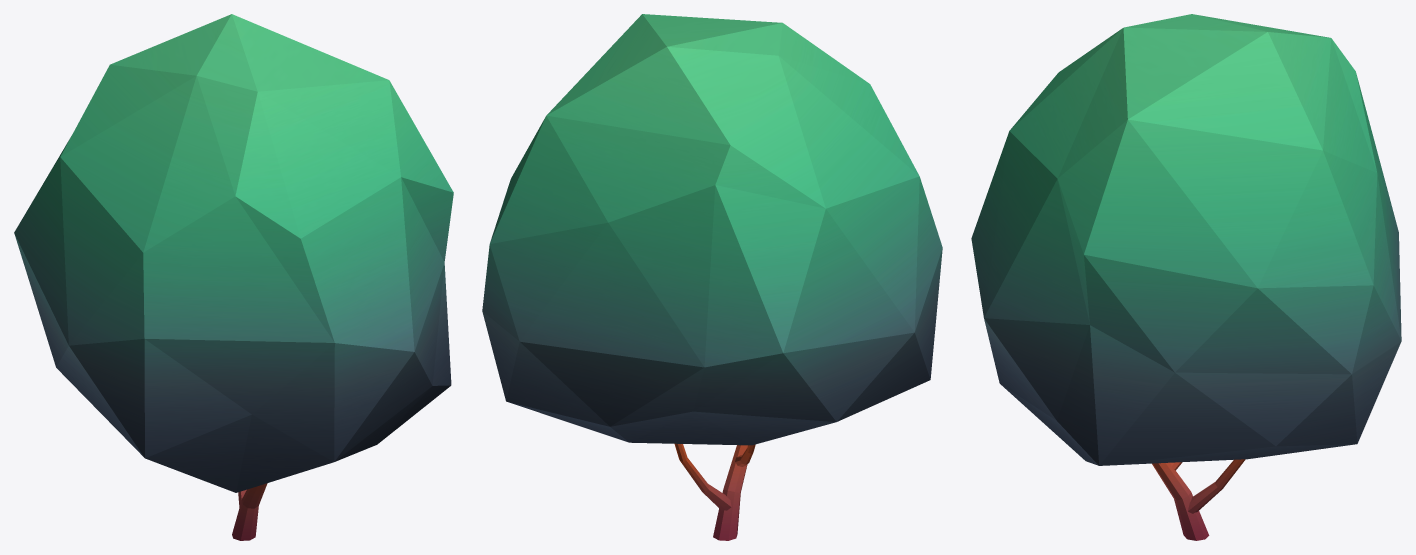
The model's file is Bush_1_SM.fbx.
The picture shows the model from 3 angles, left to right: view 1: azimuth 30°, elevation 25°; view 2: azimuth 150°, elevation 25°; view 3: azimuth 270°, elevation 25°; orthographic projection. The views are drawn at different scales.
Visible parts, largest first — view 1: Bush 3; view 2: Bush 3; view 3: Bush 3.
Boxes of the visible parts, x1,y1,x2,y2 form: Bush 3: (14, 14, 453, 540); Bush 3: (482, 14, 942, 540); Bush 3: (971, 14, 1401, 540).
Size of the model in its own units: 119 by 157 by 119.
